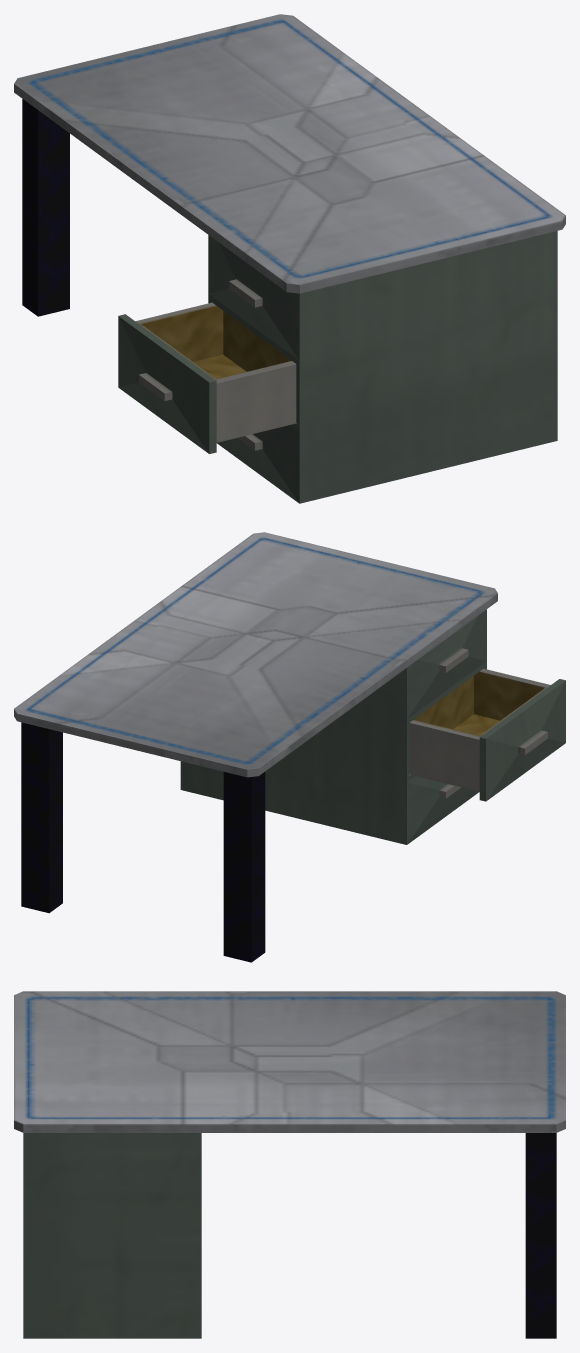
File: office_desk.glb
3 renders of one model, top to bottom at view 1: azimuth 30°, elevation 25°; view 2: azimuth 150°, elevation 25°; view 3: azimuth 270°, elevation 25°, orthographic. The views are drawn at different scales.
Parts seen in each view (by area): view 1: OfficeTable; view 2: OfficeTable; view 3: OfficeTable.
Part boxes in pixels (<box>): OfficeTable: <box>14,14,565,503</box>; OfficeTable: <box>14,532,565,962</box>; OfficeTable: <box>14,991,565,1338</box>.
Bounding box in the file's own units: 1.33 × 0.7681 × 1.76.
1 material, 1 textured.
